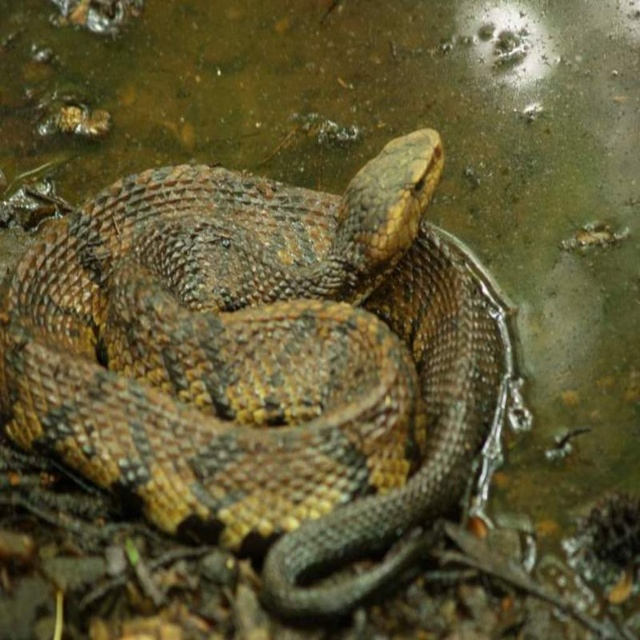Snake: (0, 126, 502, 629)
